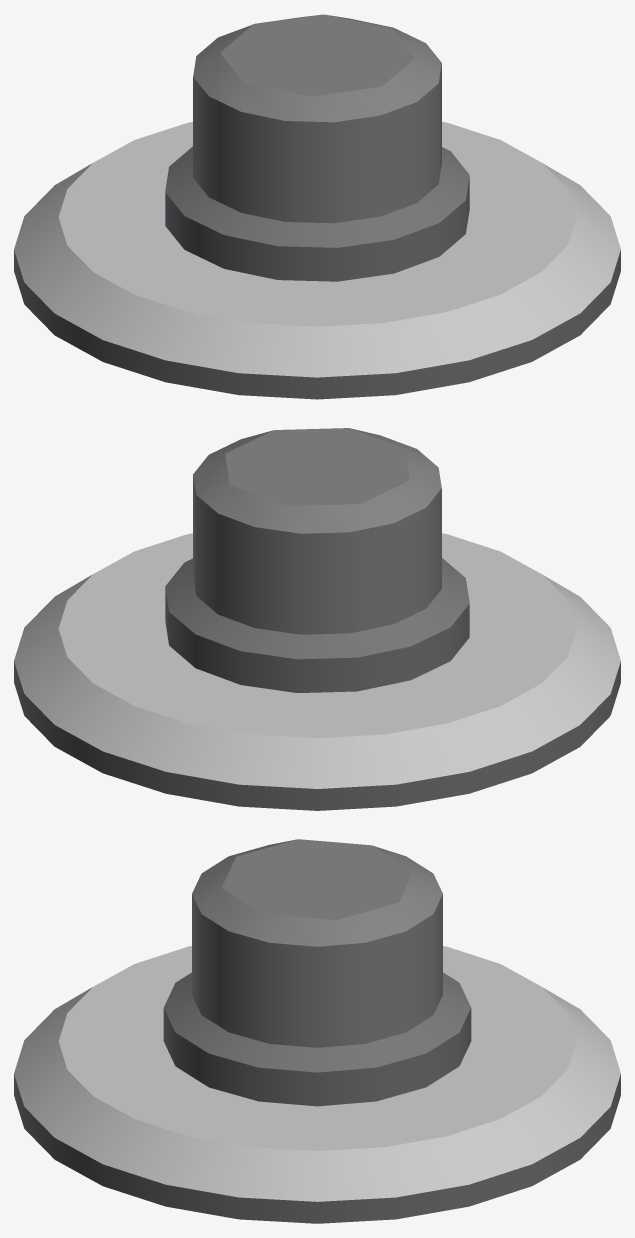
File: Armchair_011.fbx
3 views of the same model, one above another, from view 1: azimuth 30°, elevation 25°; view 2: azimuth 150°, elevation 25°; view 3: azimuth 270°, elevation 25° (orthographic).
Parts seen in each view (by area): view 1: Armchair_011; view 2: Armchair_011; view 3: Armchair_011.
Boxes of the visible parts, bbox=[...] form: Armchair_011: bbox=[14, 14, 620, 399]; Armchair_011: bbox=[14, 428, 620, 810]; Armchair_011: bbox=[14, 839, 620, 1223].
Bounding box in the file's own units: 55.18 × 55.14 × 21.63.
